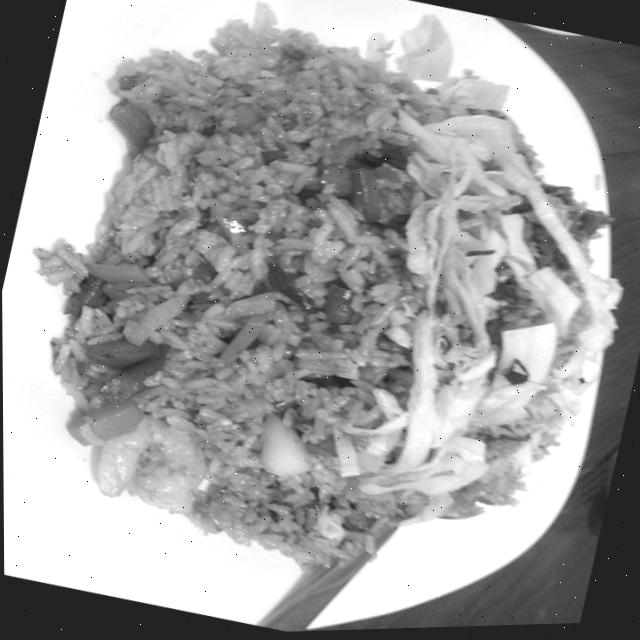米饭主食: (32, 0, 625, 609)
